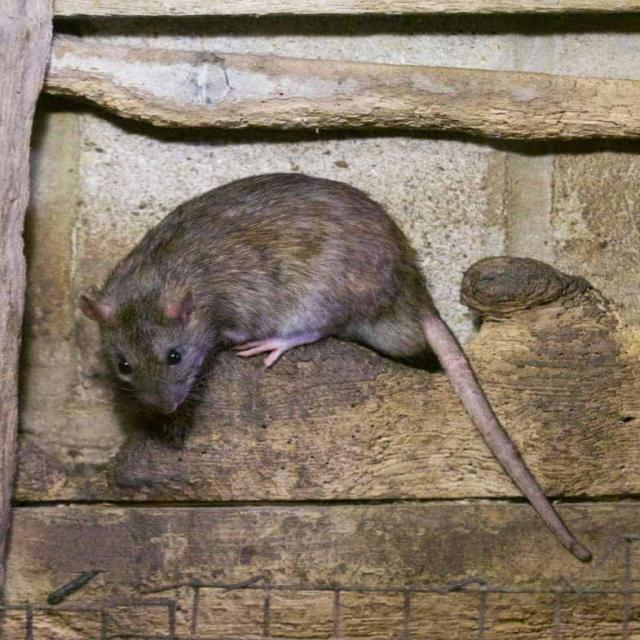rat: (75, 174, 422, 414)
